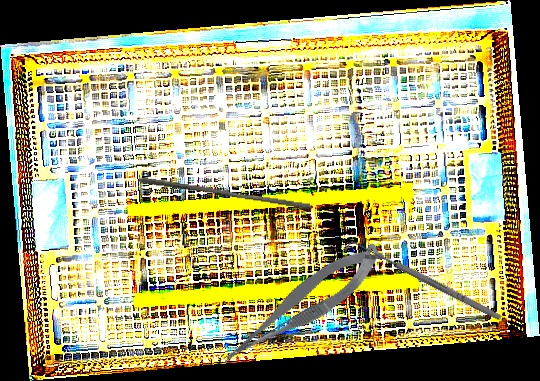Hook Surgical: (343, 235, 504, 328)
Micro Scissor: (205, 236, 397, 372)
Pusher: (136, 176, 314, 211)
